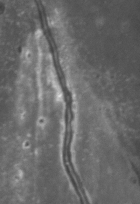WaterStain: (34, 0, 90, 203)
